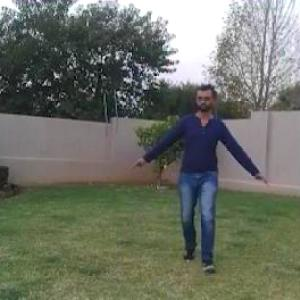land: (121, 73, 292, 299)
